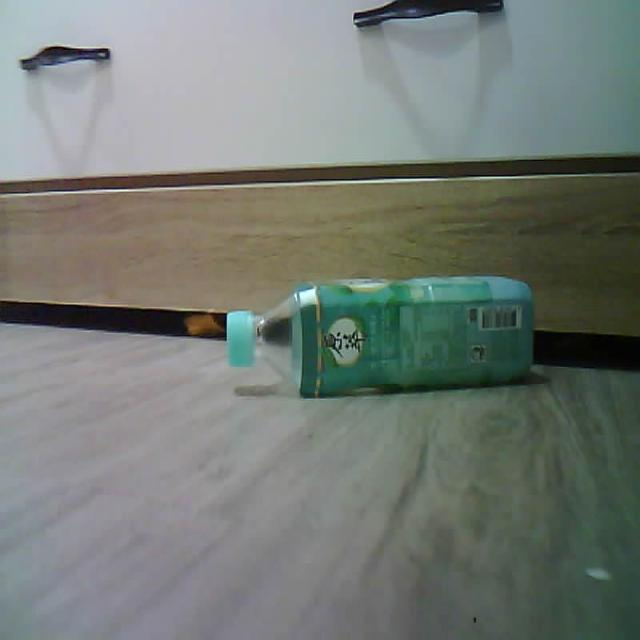bottle: (226, 276, 533, 397)
